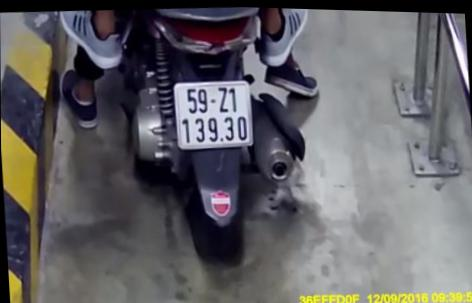LP: (171, 74, 255, 150)
